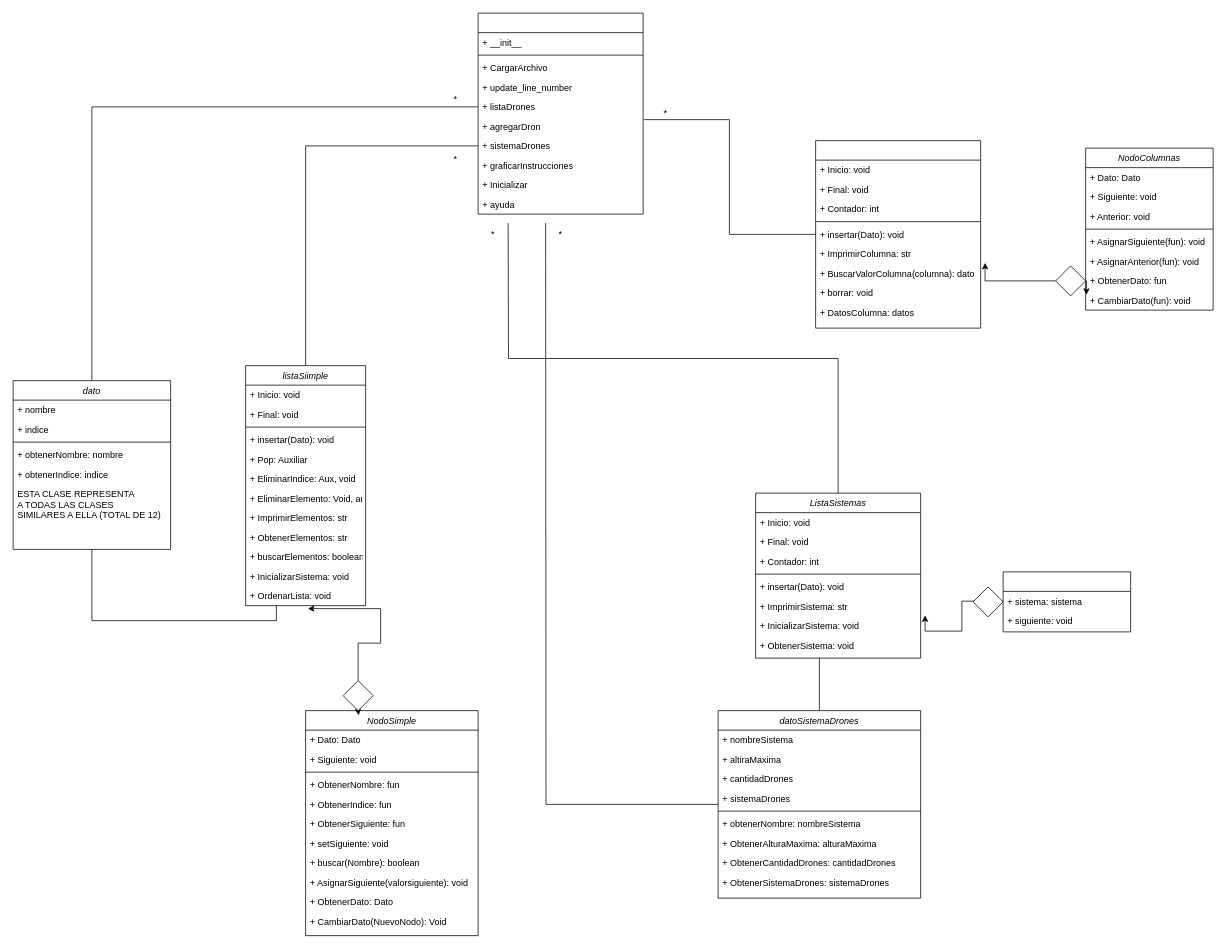
Image size: 1226x949. Some labels were removed from this diagram. Here are the shapes that lost their labels. From the top down, the box of each, then its label:
(477, 12, 643, 214): Main
(815, 140, 981, 328): listaDeColumnas
(1002, 571, 1131, 632): NodoSistema
